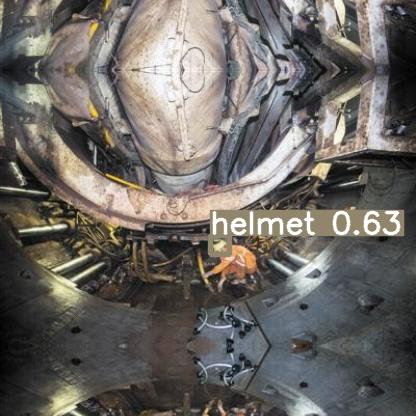helmet: (210, 235, 229, 254)
